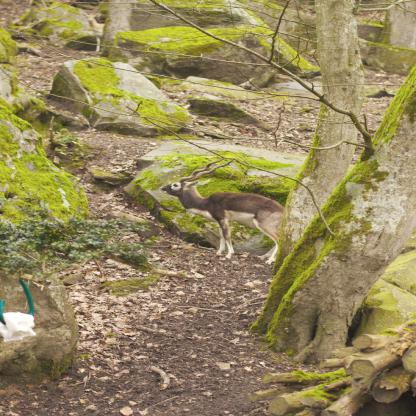Deer: (159, 157, 286, 263)
